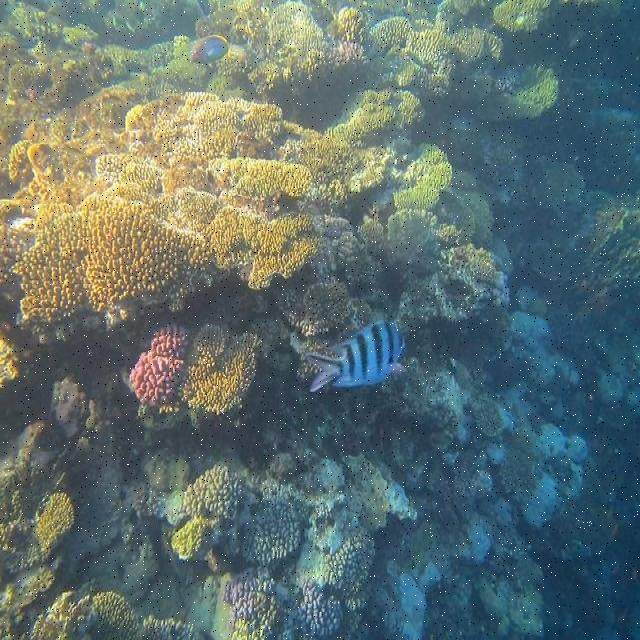fish: (306, 319, 408, 393), (190, 34, 229, 65)
reefs: (0, 91, 395, 393), (128, 168, 512, 419), (0, 0, 370, 143), (135, 455, 379, 639), (305, 0, 505, 211), (0, 446, 205, 639), (446, 62, 559, 122), (493, 0, 570, 31)
